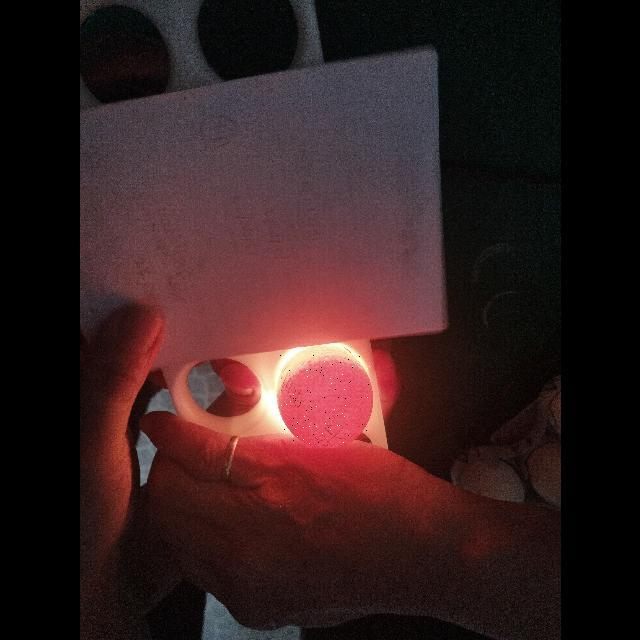Infertile: (280, 354, 370, 444)
